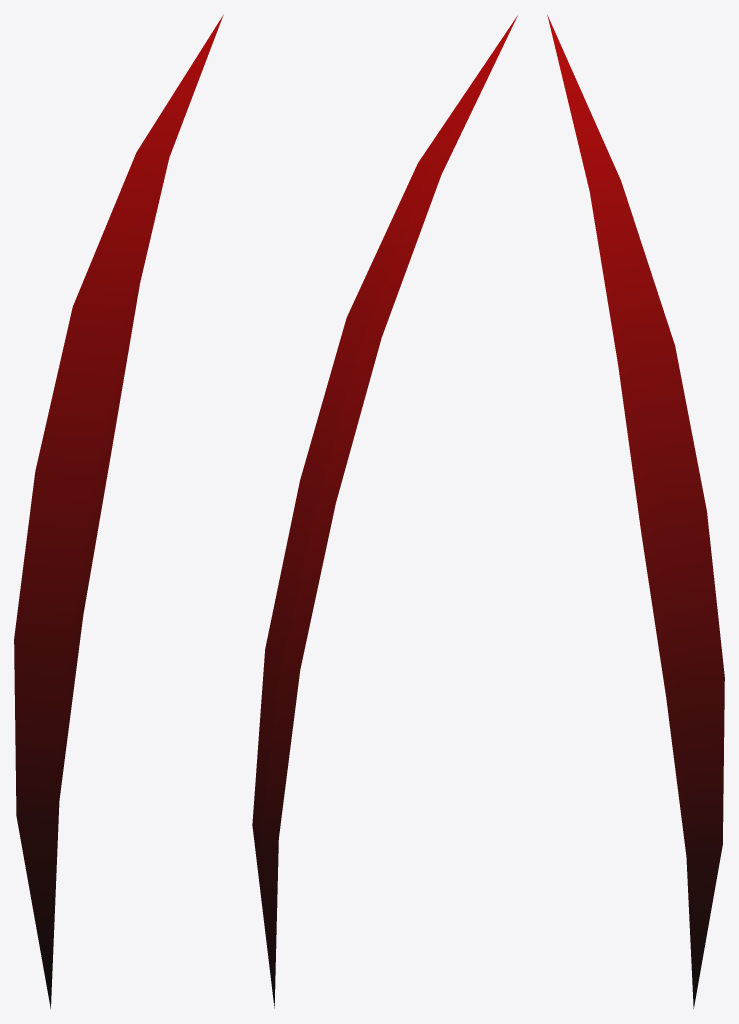
The model's file is Grass.fbx.
The picture shows the model from 3 angles, left to right: view 1: azimuth 90°, elevation 25°; view 2: azimuth 150°, elevation 25°; view 3: azimuth 270°, elevation 25°; orthographic projection. The views are drawn at different scales.
Parts seen in each view (by area): view 1: Grass; view 2: Grass; view 3: Grass.
Boxes of the visible parts, bbox=[...] form: Grass: bbox=[14, 14, 223, 1009]; Grass: bbox=[252, 15, 517, 1008]; Grass: bbox=[547, 15, 724, 1008].
Size of the model in its own units: 48.02 by 234 by 40.97.
